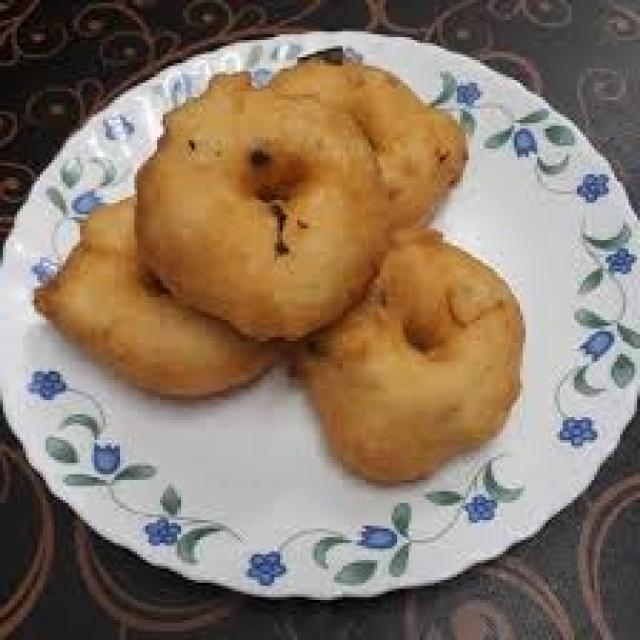medu vadai: (139, 80, 393, 335), (295, 237, 521, 482), (35, 201, 277, 399), (267, 59, 465, 230)
